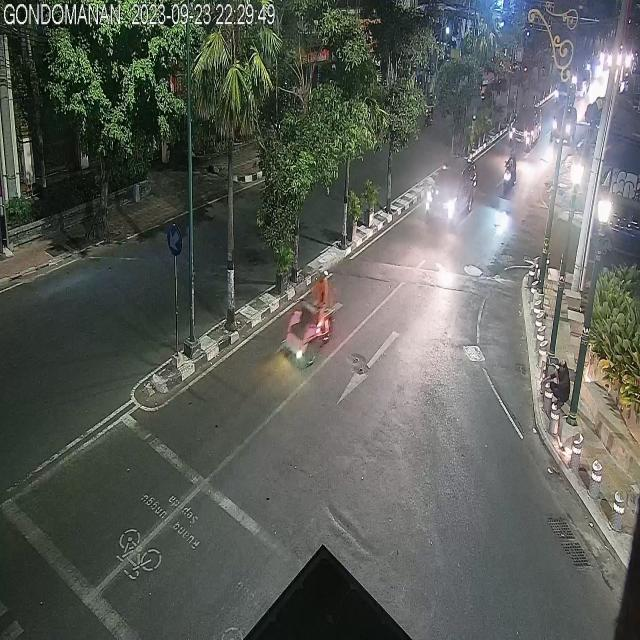car: (427, 158, 477, 226), (510, 103, 541, 150), (549, 104, 576, 143)
motorcycle: (504, 146, 516, 191)
